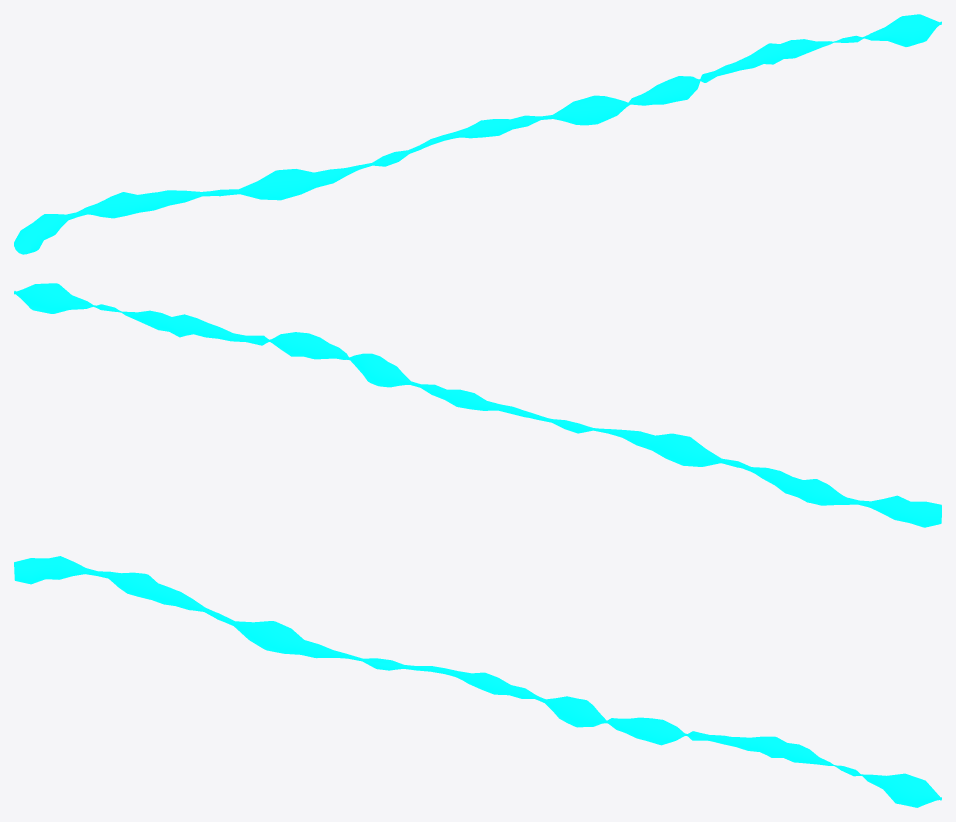
Rendered from LASER.fbx.
3 views of the same model, one above another, from view 1: azimuth 30°, elevation 25°; view 2: azimuth 150°, elevation 25°; view 3: azimuth 330°, elevation 25° (orthographic).
Parts seen in each view (by area): view 1: LAZER; view 2: LAZER; view 3: LAZER.
Boxes of the visible parts, box(x1,y1,x2,y2) form: LAZER: box(14, 14, 941, 254); LAZER: box(14, 283, 941, 527); LAZER: box(14, 556, 941, 807).
Bounding box in the file's own units: 372 × 12.18 × 23.64.
